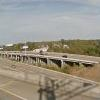Bridge: (4, 41, 92, 79)
